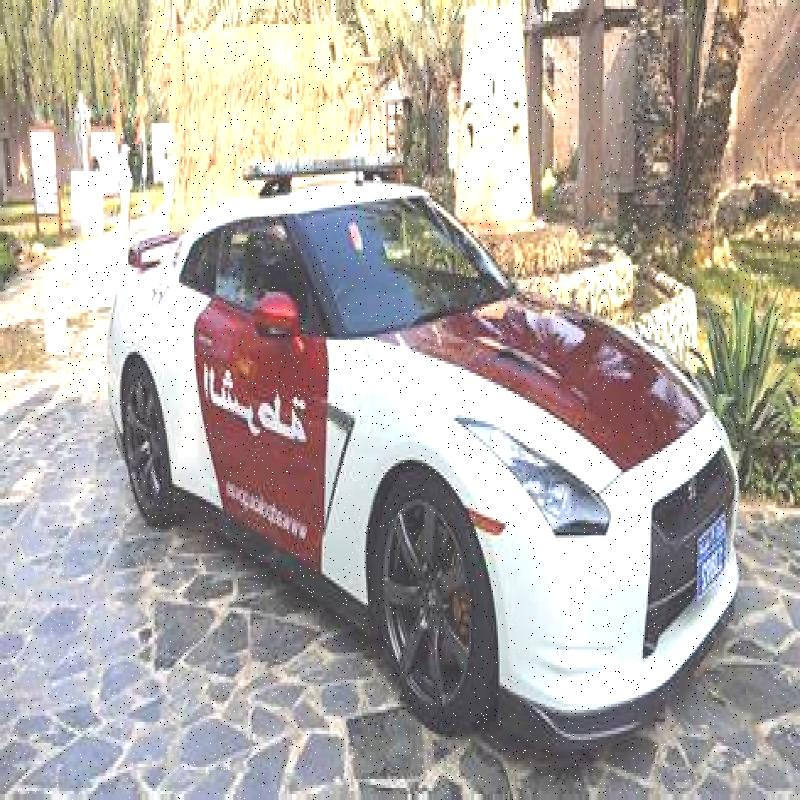AmbulanceSiren: (240, 129, 435, 208)
